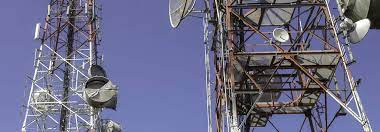ba: (82, 76, 123, 111), (271, 25, 289, 46)
